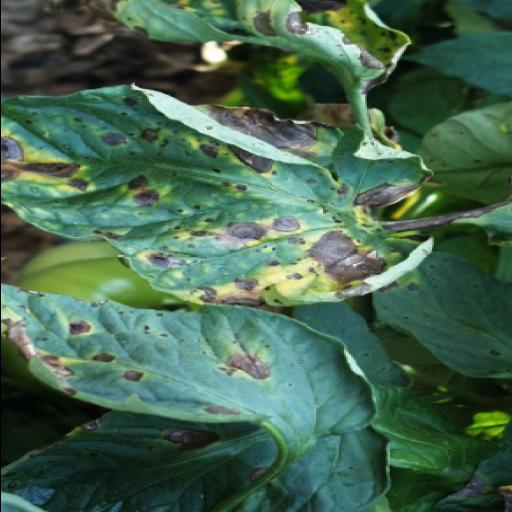disease_tomato: (0, 80, 454, 306), (0, 280, 380, 437)
